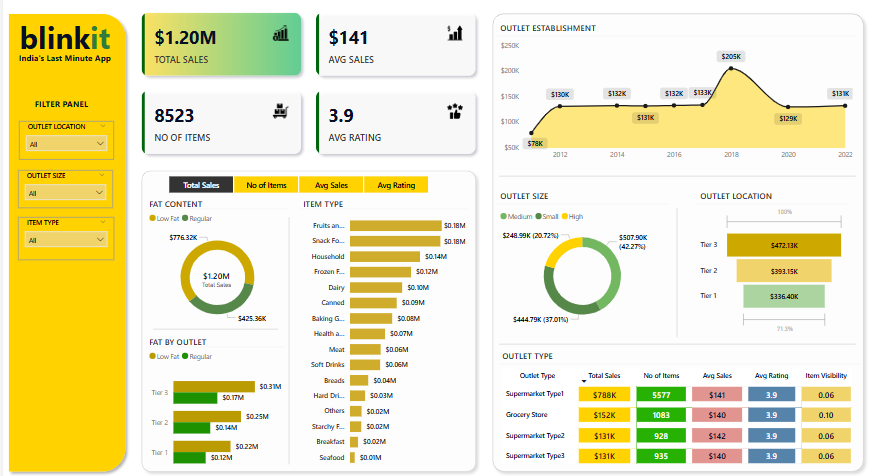

The dashboard page shown, as its layout file describes it:
{"tool":"powerbi","page":{"name":"Page 1","canvas":[1400,800],"ordinal":0},"visuals":[{"type":"shape","box":[0,25.3,205,750.7],"z":0},{"type":"textbox","box":[0,33,198.1,82.1],"z":1000},{"type":"cardVisual","fields":{"Data":["BlinkIT Grocery Data.Total Sum Sales","BlinkIT Grocery Data.Average Sales","BlinkIT Grocery Data.No of Items","BlinkIT Grocery Data.Avg Rating"]},"box":[204.8,16,569.6,260.8],"z":2000},{"type":"shape","box":[774.5,25.5,611.7,751.1],"z":6000},{"type":"areaChart","title":"OUTLET ESTABLISHMENT","fields":{"Y":["BlinkIT Grocery Data.Total Sum Sales"],"Category":["BlinkIT Grocery Data.Outlet Establishment Year2"]},"box":[790.4,48,574.4,228.8],"z":7000},{"type":"textbox","box":[0,89.6,198.1,34],"z":8000},{"type":"donutChart","title":"OUTLET SIZE","fields":{"Category":["BlinkIT Grocery Data.Outlet Size"],"Y":["BlinkIT Grocery Data.Total Sum Sales"]},"box":[790.4,316.8,273.6,224],"z":9000},{"type":"funnel","title":"OUTLET LOCATION","fields":{"Category":["BlinkIT Grocery Data.Outlet Location Type"],"Y":["BlinkIT Grocery Data.Total Sum Sales"]},"box":[1110.4,316,240.6,234],"z":10000},{"type":"pivotTable","title":"OUTLET TYPE","fields":{"Rows":["BlinkIT Grocery Data.Outlet Type"],"Values":["BlinkIT Grocery Data.Total Sum Sales","BlinkIT Grocery Data.No of Items","BlinkIT Grocery Data.Average Sales","BlinkIT Grocery Data.Avg Rating","Avg(BlinkIT Grocery Data.Item Visibility)"]},"box":[793.6,572.3,578.7,197.1],"z":11000},{"type":"shape","box":[793.4,284.9,570.8,19.8],"z":12000},{"type":"shape","box":[1064.2,346.2,29.2,208.5],"z":13000},{"type":"shape","box":[212.8,276.6,553.2,500],"z":14000},{"type":"donutChart","title":"FAT CONTENT","fields":{"Y":["BlinkIT Grocery Data.Total Sum Sales"],"Category":["BlinkIT Grocery Data.Item Fat Content"]},"box":[228.3,330.2,229.2,213.2],"z":15000},{"type":"shape","box":[793.4,553.8,570.8,19.8],"z":16000},{"type":"cardVisual","fields":{"Data":["BlinkIT Grocery Data.Total Sum Sales"]},"box":[291.9,428.1,102,54.5],"z":17000},{"type":"slicer","fields":{"Values":["Metric.Metric"]},"box":[240,287.5,464.2,39.6],"z":18000},{"type":"barChart","title":"ITEM TYPE","fields":{"Y":["BlinkIT Grocery Data.Total Sum Sales"],"Category":["BlinkIT Grocery Data.Item Type"]},"box":[475.3,330.2,269.8,438.1],"z":19000},{"type":"shape","box":[442.5,360.4,29.2,399.1],"z":20000},{"type":"clusteredBarChart","title":"FAT BY OUTLET","fields":{"Y":["BlinkIT Grocery Data.Total Sum Sales"],"Category":["BlinkIT Grocery Data.Outlet Location Type"],"Series":["BlinkIT Grocery Data.Item Fat Content"]},"box":[228.3,550.9,221.7,229.2],"z":21000},{"type":"shape","box":[239.6,529.2,200,19.8],"z":22000},{"type":"slicer","fields":{"Values":["BlinkIT Grocery Data.Outlet Location Type"]},"box":[25.6,206.4,152,62.4],"z":29000},{"type":"slicer","fields":{"Values":["BlinkIT Grocery Data.Outlet Size"]},"box":[24,284.8,152,60.8],"z":30000},{"type":"slicer","fields":{"Values":["BlinkIT Grocery Data.Item Type"]},"box":[24,360,153.6,68.8],"z":31000},{"type":"textbox","box":[24,163.2,139.2,32],"z":32000}]}

Visuals, with their boxes on the page's 1400x800 design canvas (x1, y1, x2, y2). These are canvas units, not pixel positions in the 872x476 screenshot, which may show the page scaled, cropped or inside an application window:
shape: (left=0, top=25, right=205, bottom=776)
textbox: (left=0, top=33, right=198, bottom=115)
cardVisual - BlinkIT Grocery Data.Total Sum Sales x BlinkIT Grocery Data.Average Sales: (left=205, top=16, right=774, bottom=277)
shape: (left=774, top=26, right=1386, bottom=777)
"OUTLET ESTABLISHMENT" areaChart: (left=790, top=48, right=1365, bottom=277)
textbox: (left=0, top=90, right=198, bottom=124)
"OUTLET SIZE" donutChart: (left=790, top=317, right=1064, bottom=541)
"OUTLET LOCATION" funnel: (left=1110, top=316, right=1351, bottom=550)
"OUTLET TYPE" pivotTable: (left=794, top=572, right=1372, bottom=769)
shape: (left=793, top=285, right=1364, bottom=305)
shape: (left=1064, top=346, right=1093, bottom=555)
shape: (left=213, top=277, right=766, bottom=777)
"FAT CONTENT" donutChart: (left=228, top=330, right=458, bottom=543)
shape: (left=793, top=554, right=1364, bottom=574)
cardVisual - BlinkIT Grocery Data.Total Sum Sales: (left=292, top=428, right=394, bottom=483)
slicer - Metric.Metric: (left=240, top=288, right=704, bottom=327)
"ITEM TYPE" barChart: (left=475, top=330, right=745, bottom=768)
shape: (left=442, top=360, right=472, bottom=760)
"FAT BY OUTLET" clusteredBarChart: (left=228, top=551, right=450, bottom=780)
shape: (left=240, top=529, right=440, bottom=549)
slicer - BlinkIT Grocery Data.Outlet Location Type: (left=26, top=206, right=178, bottom=269)
slicer - BlinkIT Grocery Data.Outlet Size: (left=24, top=285, right=176, bottom=346)
slicer - BlinkIT Grocery Data.Item Type: (left=24, top=360, right=178, bottom=429)
textbox: (left=24, top=163, right=163, bottom=195)
